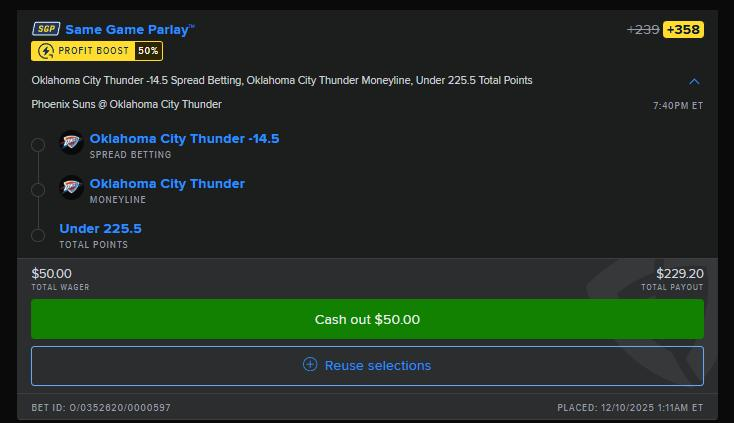game: (30, 96, 224, 113)
odds: (666, 21, 701, 35)
payout: (655, 263, 706, 283)
wager: (29, 262, 75, 283)
